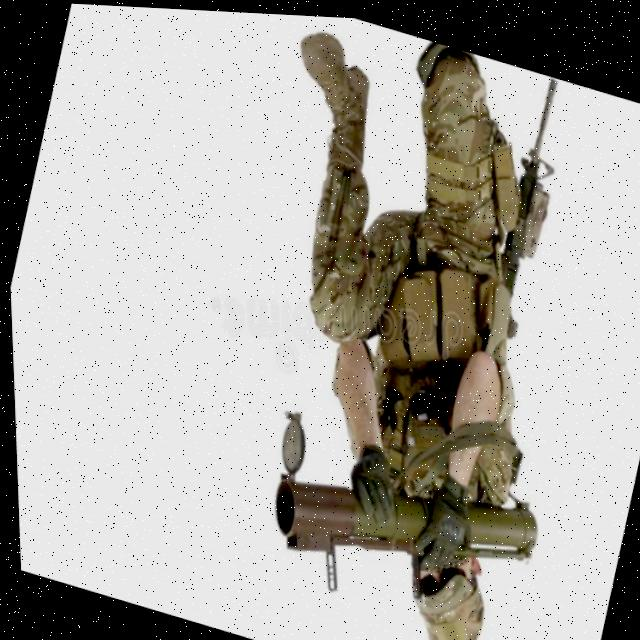rocket: (222, 344, 581, 640)
